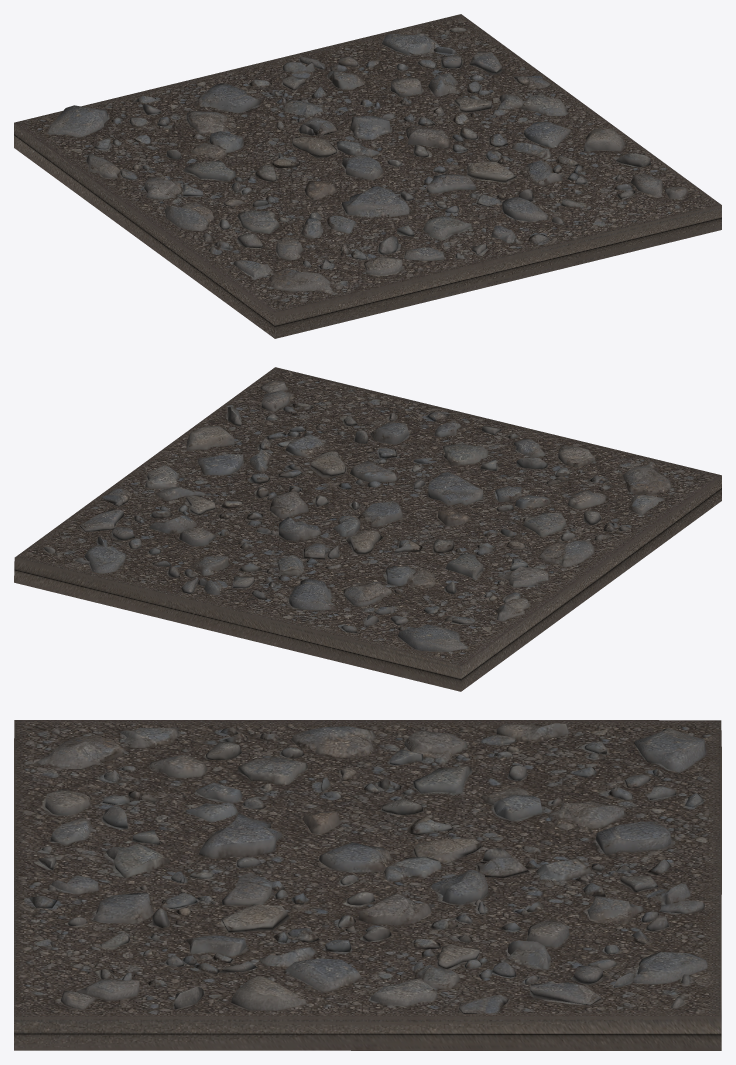
Rendered from rocky.glb.
The picture shows the model from 3 angles, top to bottom: view 1: azimuth 30°, elevation 25°; view 2: azimuth 150°, elevation 25°; view 3: azimuth 270°, elevation 25°; orthographic projection. The views are drawn at different scales.
Bounding box in the file's own units: 0.9688 × 0.0767 × 0.9785.
Materials: 1 (1 with a texture image).
